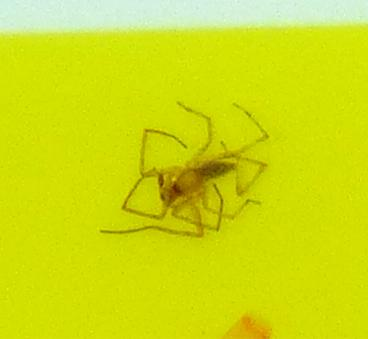Araneae: (100, 100, 268, 239)
